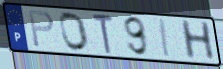9: (122, 15, 151, 57)
H: (179, 19, 217, 61)
I: (158, 17, 172, 59)
O: (59, 11, 91, 53)
P: (27, 9, 56, 49)
T: (90, 13, 115, 56)
